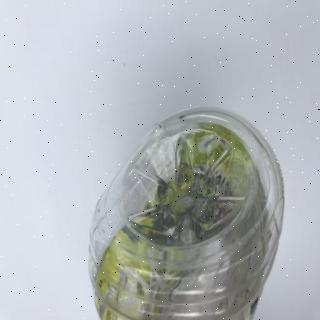Plastic-bottle: (87, 104, 287, 320)
